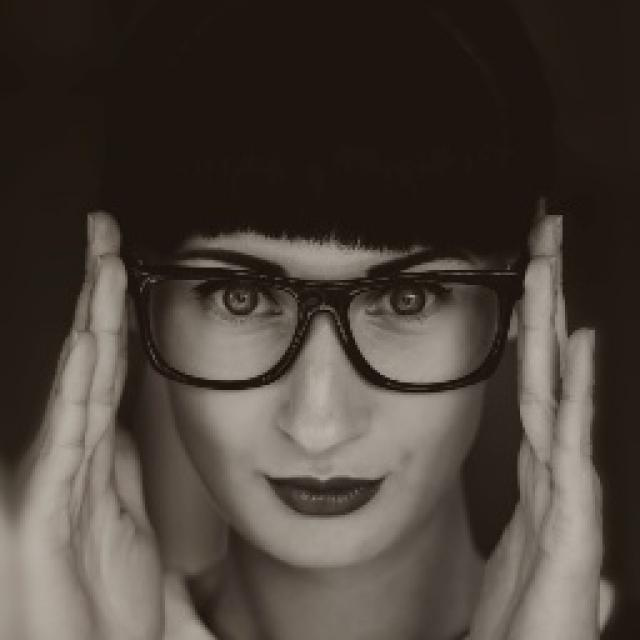glasses: (106, 235, 536, 403)
